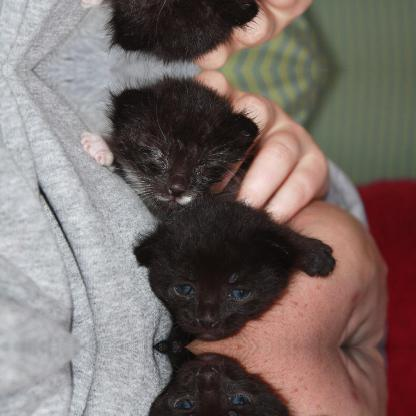Cat: (128, 196, 338, 344), (78, 70, 268, 219), (128, 347, 339, 415), (77, 0, 269, 68)
